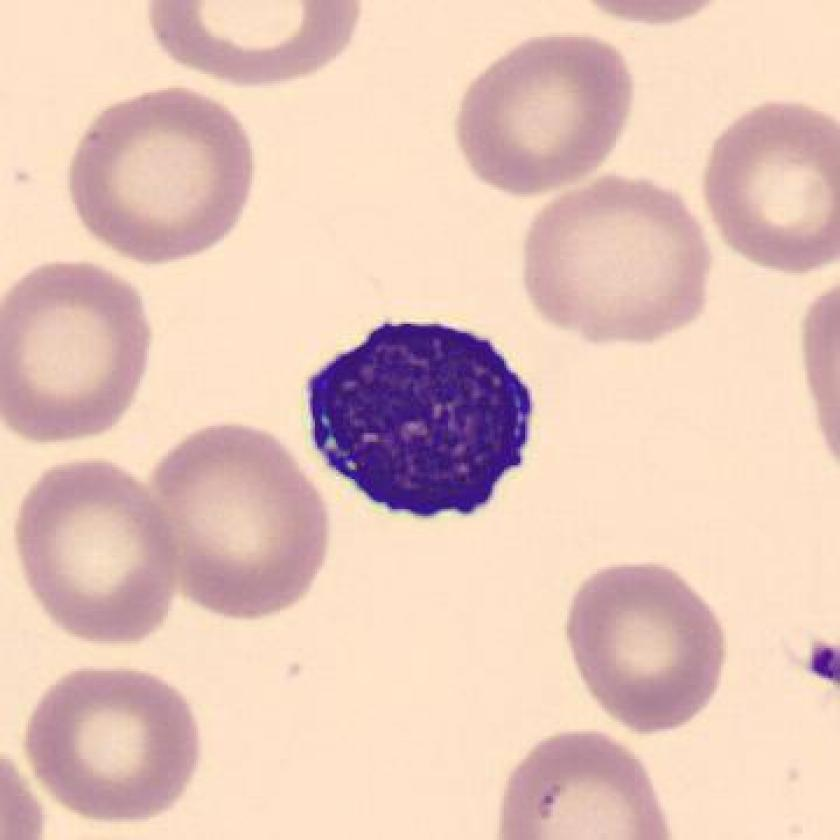lymphocyte: (295, 311, 554, 529)
